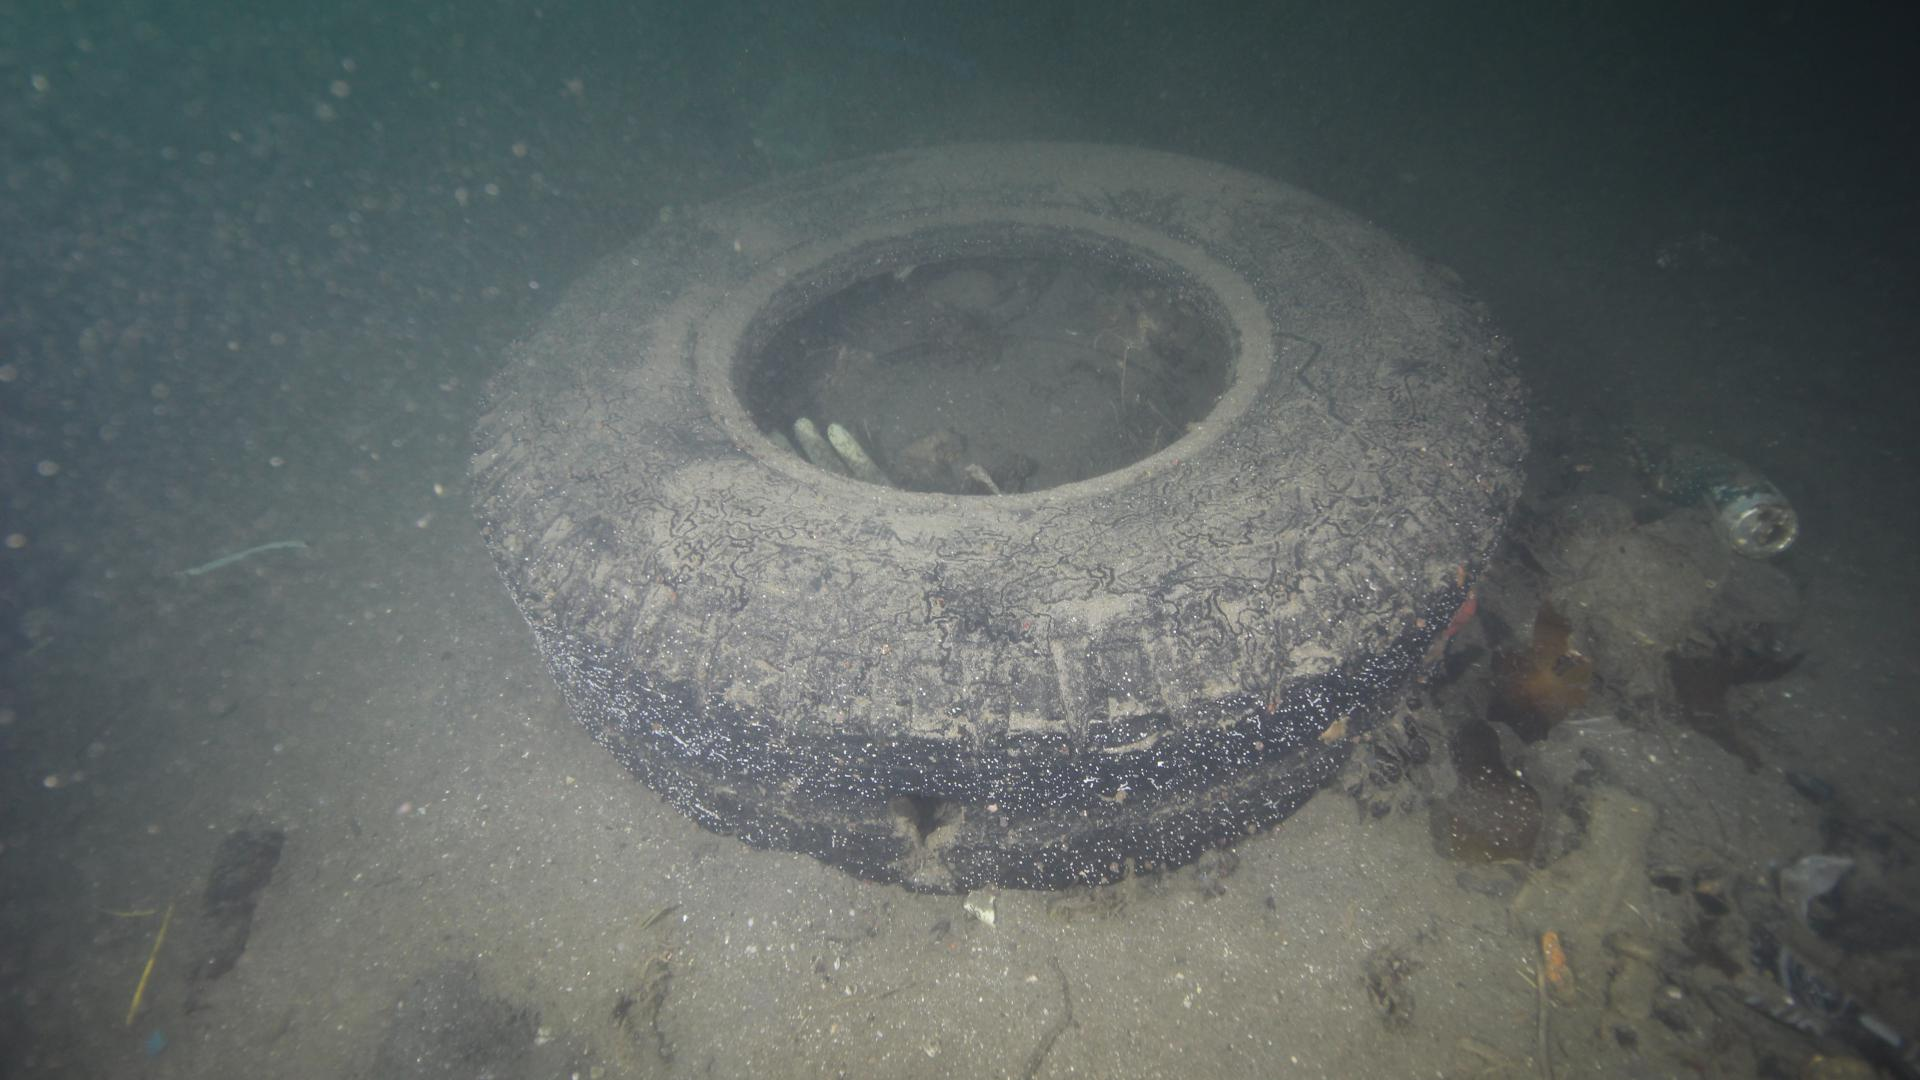tire: (465, 136, 1535, 895)
